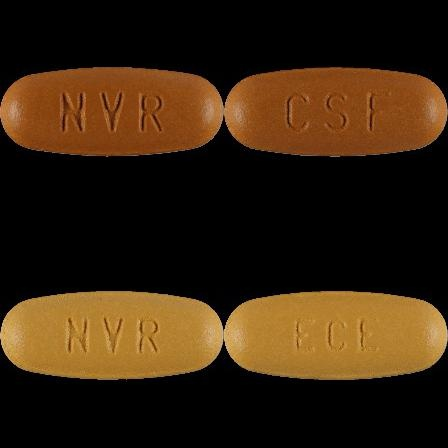54868-5996: (0, 0, 224, 224)
